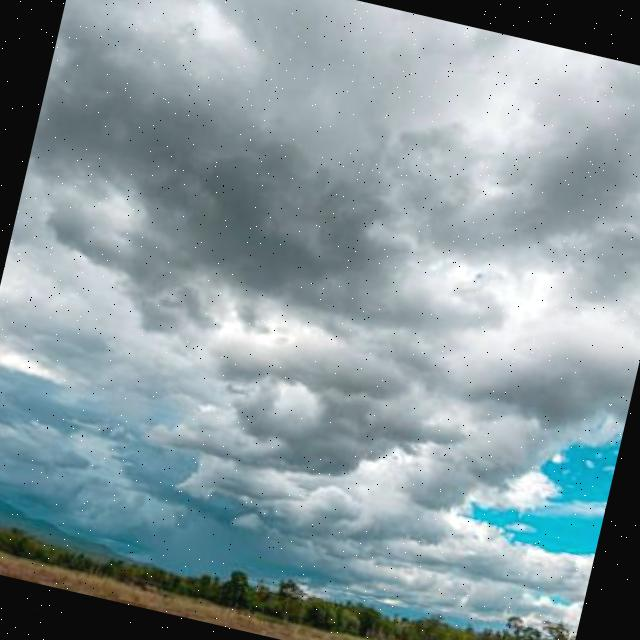Ns: (1, 1, 640, 611)
